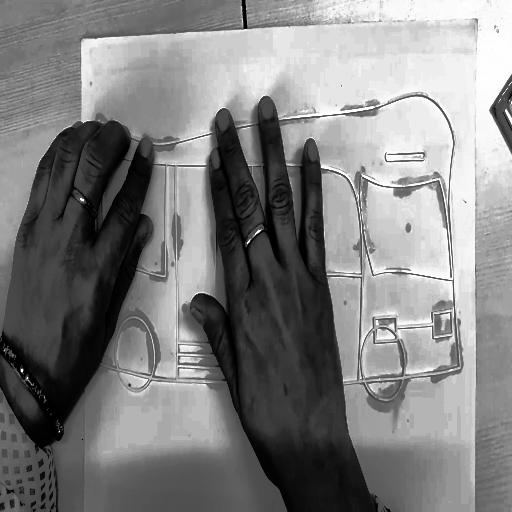bus: (87, 84, 474, 407)
top_left: (77, 34, 85, 48)
top_right: (474, 12, 480, 25)
